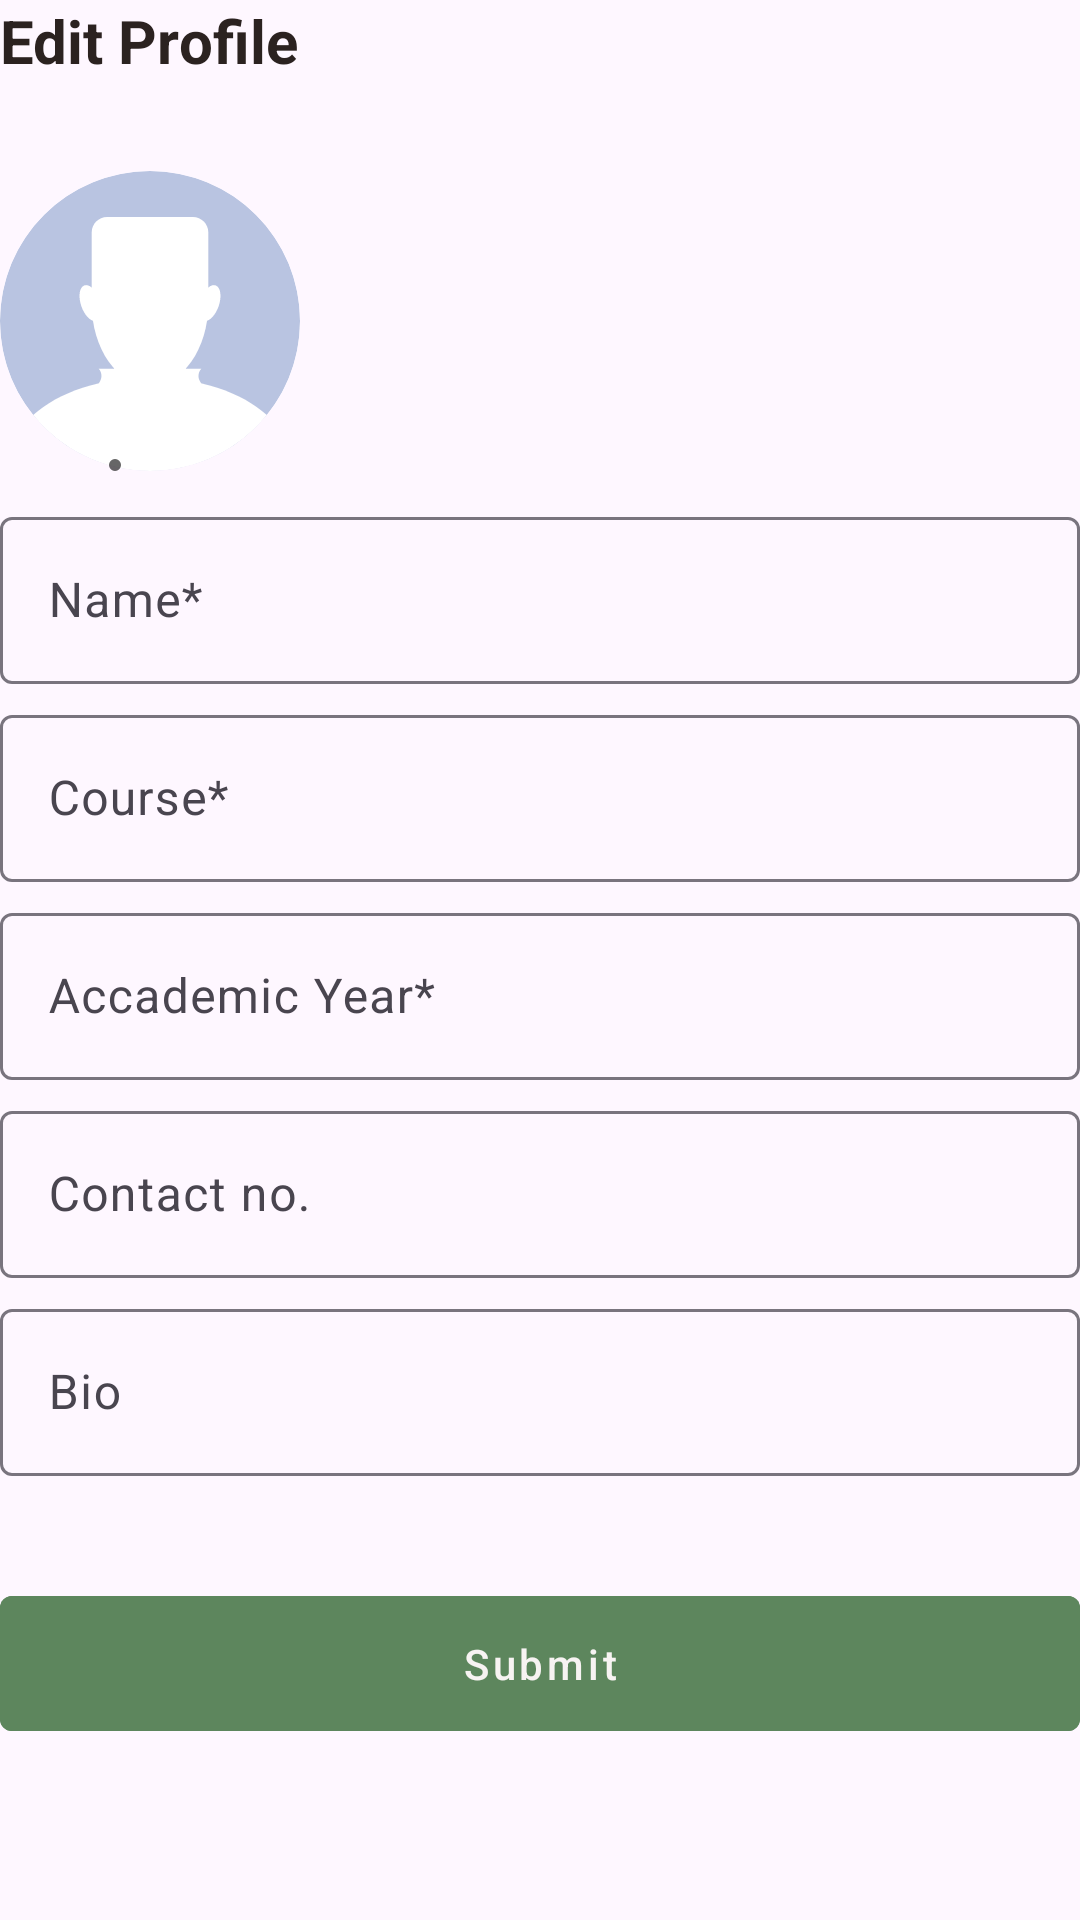

Named icons in this screenshot (1080px×1920px) and their centers, point (x, y):
user: point (150, 321)
